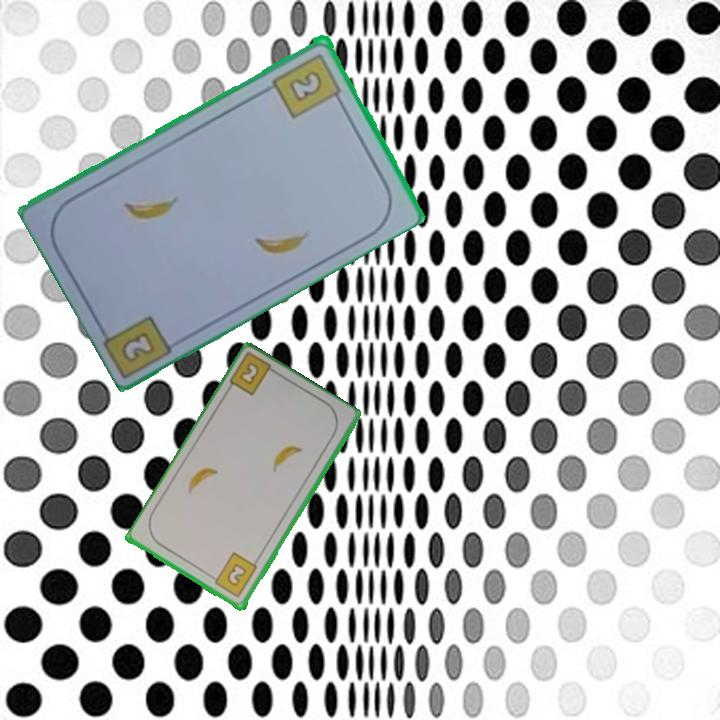2b: (269, 49, 346, 121), (207, 549, 260, 601), (121, 331, 155, 362), (236, 359, 262, 388)
